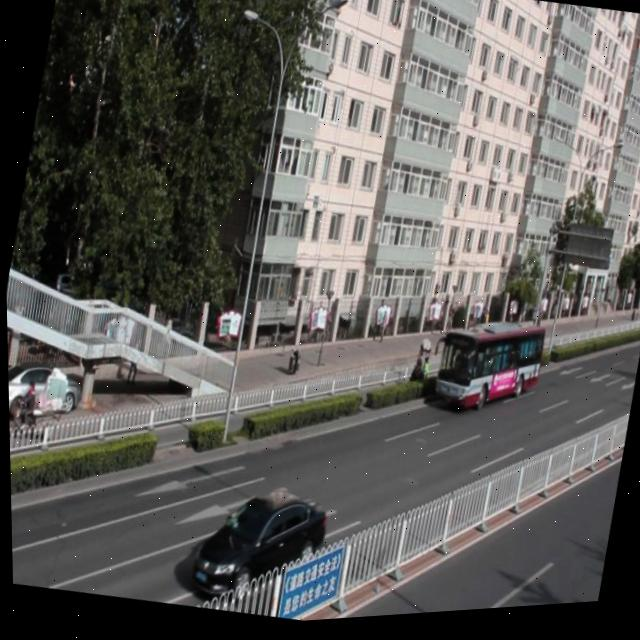car: (184, 478, 329, 618)
van: (427, 312, 545, 428)
